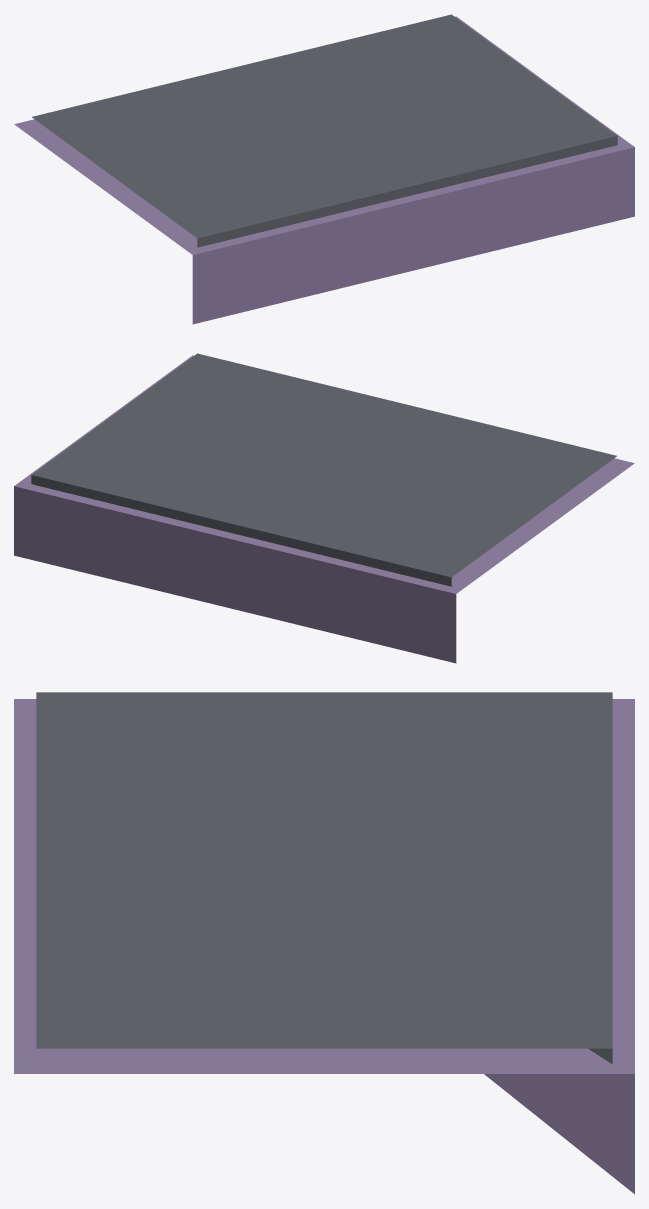
File: platform.glb
3 renders of one model, top to bottom at view 1: azimuth 30°, elevation 25°; view 2: azimuth 150°, elevation 25°; view 3: azimuth 270°, elevation 25°, orthographic. The views are drawn at different scales.
Size of the model in its own units: 2 by 0.34 by 1.4.
